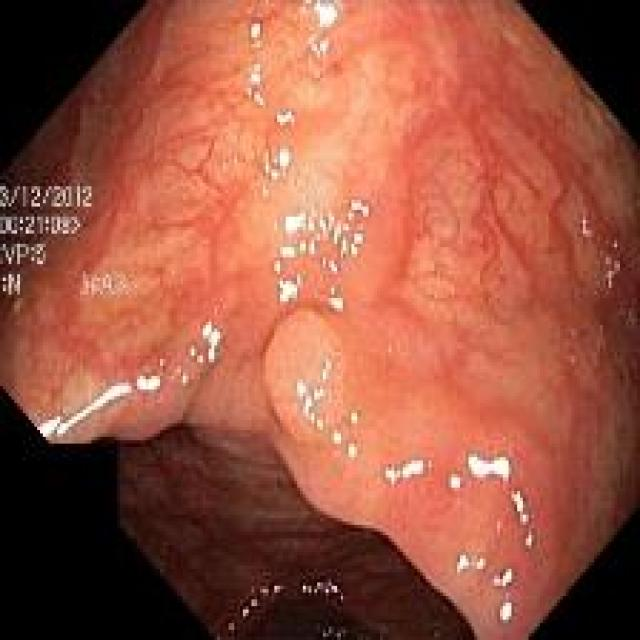Polyps: (264, 311, 359, 445)
